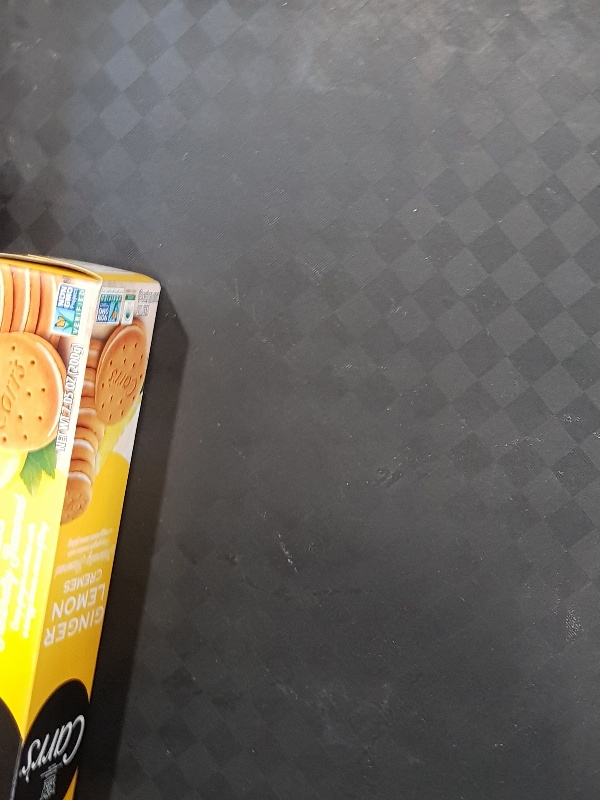Carr's Ginger Lemon Cremes: (2, 246, 162, 800)
